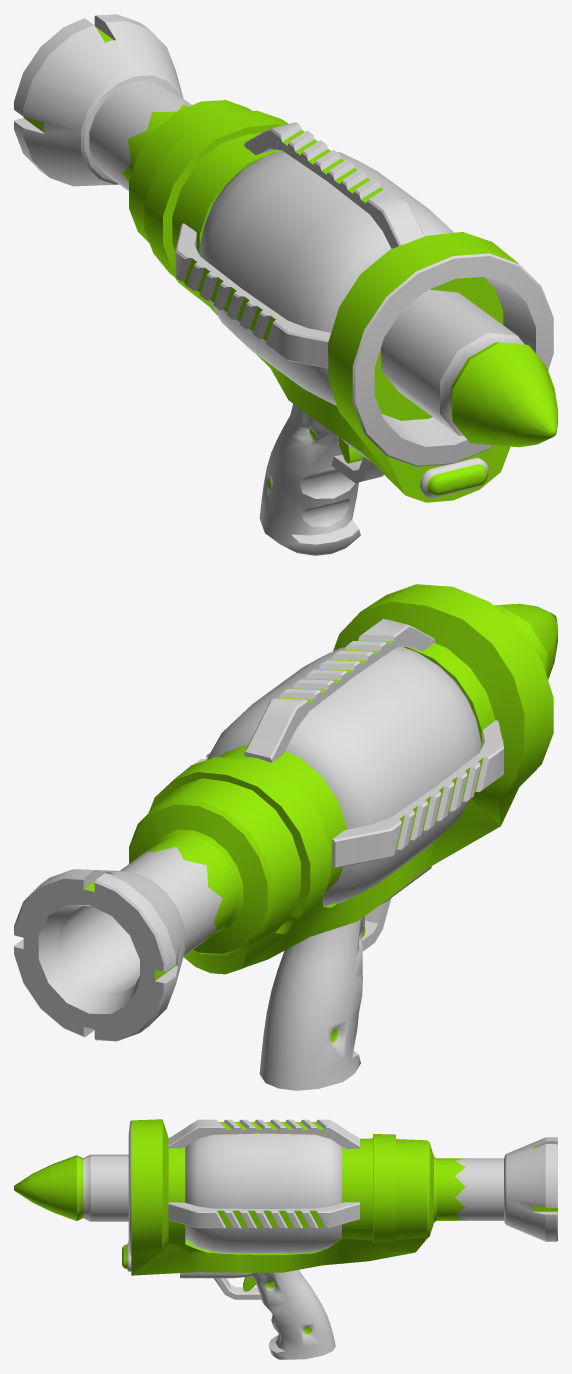
File: Grenade Gun A Mat.fbx
3 views of the same model, one above another, from view 1: azimuth 30°, elevation 25°; view 2: azimuth 150°, elevation 25°; view 3: azimuth 270°, elevation 25° (orthographic). The views are drawn at different scales.
Visible parts, largest first — view 1: Grenade gun A Mat, Grenade gun A Mat.001; view 2: Grenade gun A Mat, Grenade gun A Mat.001; view 3: Grenade gun A Mat, Grenade gun A Mat.001.
Part boxes in pixels (x1,y1,x2,y2): Grenade gun A Mat: [14, 14, 553, 555]; Grenade gun A Mat.001: [381, 289, 557, 447]; Grenade gun A Mat: [14, 584, 553, 1090]; Grenade gun A Mat.001: [494, 603, 557, 679]; Grenade gun A Mat: [122, 1119, 557, 1359]; Grenade gun A Mat.001: [14, 1154, 128, 1221].
Size of the model in its own units: 0.3217 by 0.5589 by 1.19.
